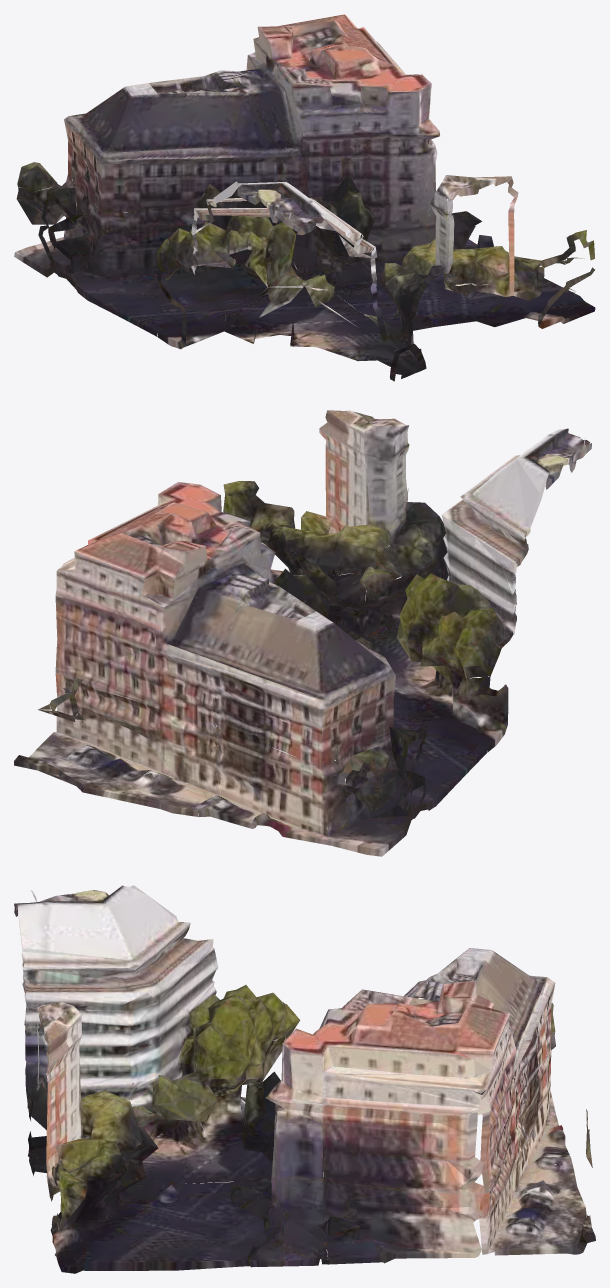
The picture shows the model from 3 angles, top to bottom: view 1: azimuth 30°, elevation 25°; view 2: azimuth 150°, elevation 25°; view 3: azimuth 270°, elevation 25°; orthographic projection. The views are drawn at different scales.
Parts seen in each view (by area): view 1: Mesh_0; view 2: Mesh_0; view 3: Mesh_0.
Part boxes in pixels (x1,y1,x2,y2): Mesh_0: (14, 14, 595, 381); Mesh_0: (14, 410, 591, 856); Mesh_0: (14, 885, 595, 1273).
Size of the model in its own units: 66.58 by 35.9 by 82.49.
1 material, 1 textured.
